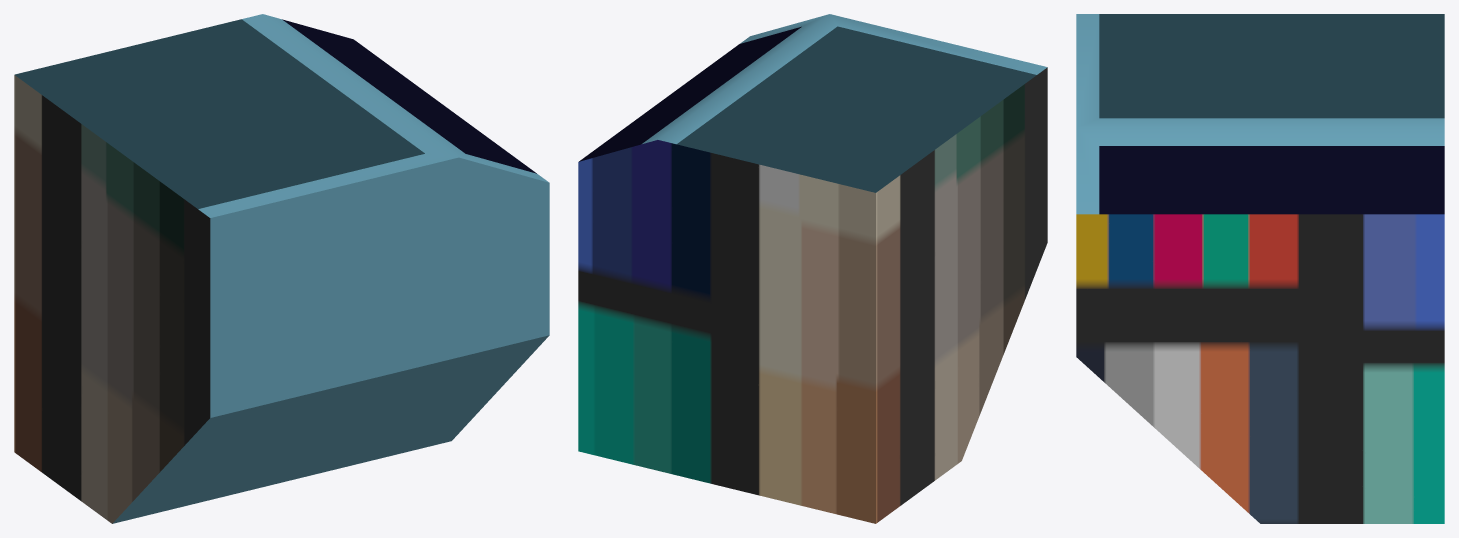
The model's file is tile_1_1_0.gltf.
The picture shows the model from 3 angles, left to right: view 1: azimuth 30°, elevation 25°; view 2: azimuth 150°, elevation 25°; view 3: azimuth 270°, elevation 25°; orthographic projection. The views are drawn at different scales.
Parts seen in each view (by area): view 1: arena.floor.corners.008; view 2: arena.floor.corners.008; view 3: arena.floor.corners.008.
Boxes of the visible parts, bbox=[...] form: arena.floor.corners.008: bbox=[14, 14, 549, 523]; arena.floor.corners.008: bbox=[578, 14, 1047, 523]; arena.floor.corners.008: bbox=[1076, 14, 1444, 523].
Bounding box in the file's own units: 8 × 8.5 × 8.
1 material, 1 textured.
